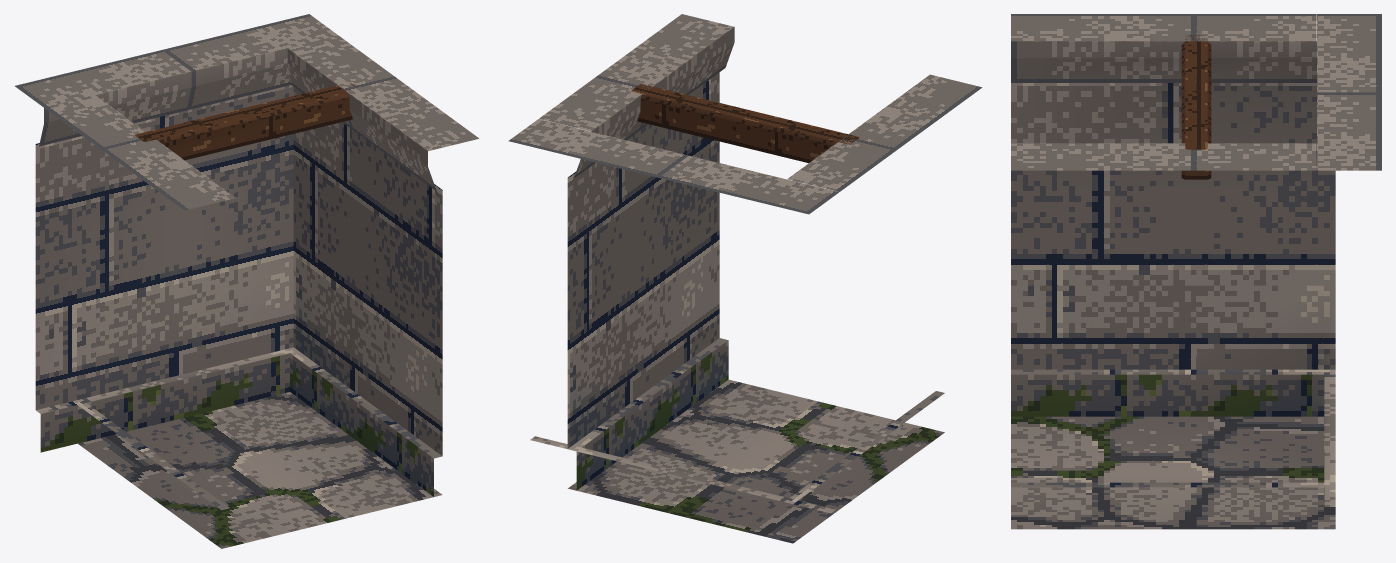
The model's file is dgn.corridor__end_wall.glb.
The picture shows the model from 3 angles, left to right: view 1: azimuth 30°, elevation 25°; view 2: azimuth 150°, elevation 25°; view 3: azimuth 270°, elevation 25°; orthographic projection. The views are drawn at different scales.
Visible parts, largest first — view 1: kit_shell_walls, kit_shell_floor, kit_beams; view 2: kit_shell_walls, kit_shell_floor, kit_beams; view 3: kit_shell_walls, kit_shell_floor, kit_beams.
Boxes of the visible parts, <box> form: kit_shell_walls: <box>15,14,478,510</box>; kit_shell_floor: <box>78,392,442,548</box>; kit_beams: <box>135,83,355,160</box>; kit_shell_walls: <box>508,14,982,513</box>; kit_shell_floor: <box>568,379,944,543</box>; kit_beams: <box>631,84,859,163</box>; kit_shell_walls: <box>1011,14,1381,506</box>; kit_shell_floor: <box>1011,416,1335,529</box>; kit_beams: <box>1181,35,1211,179</box>.
Size of the model in its own units: 4 by 4.5 by 4.
Materials: 6 (6 with a texture image).
